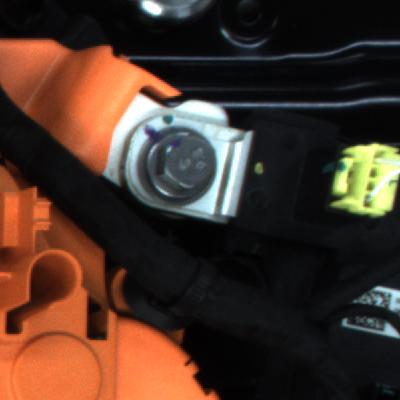nut_b: (132, 113, 231, 211)
